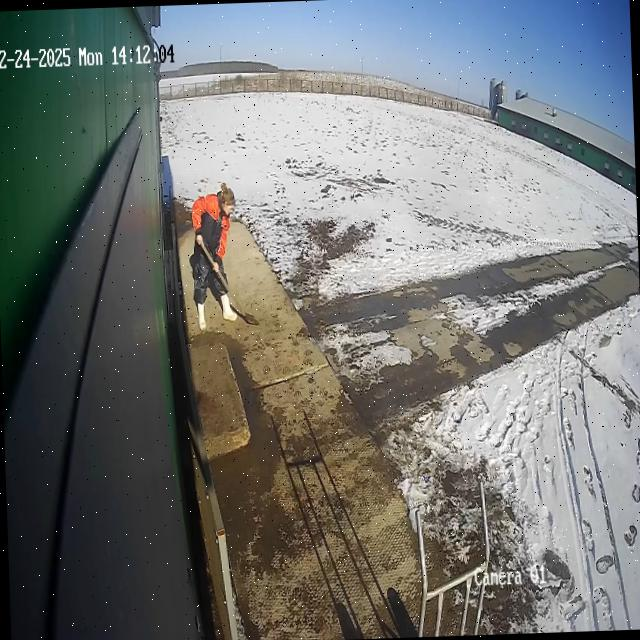Red uniform: (185, 180, 241, 334)
